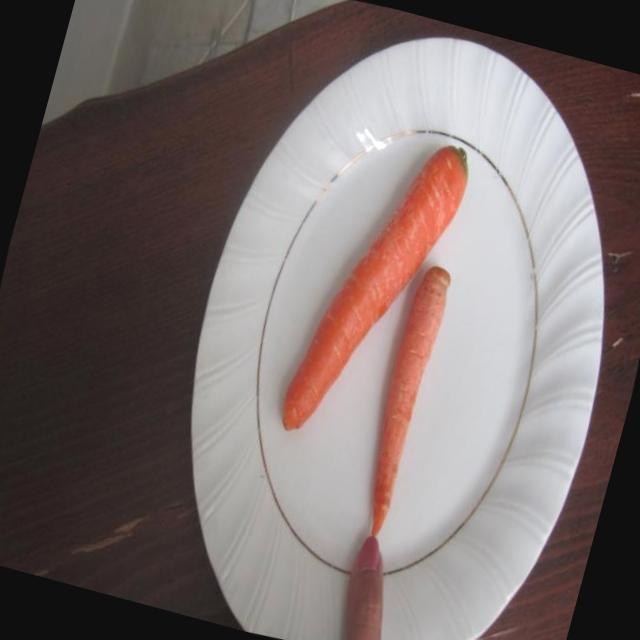Carrot: (250, 100, 498, 476), (336, 245, 478, 547)
Finger: (318, 526, 417, 640)
